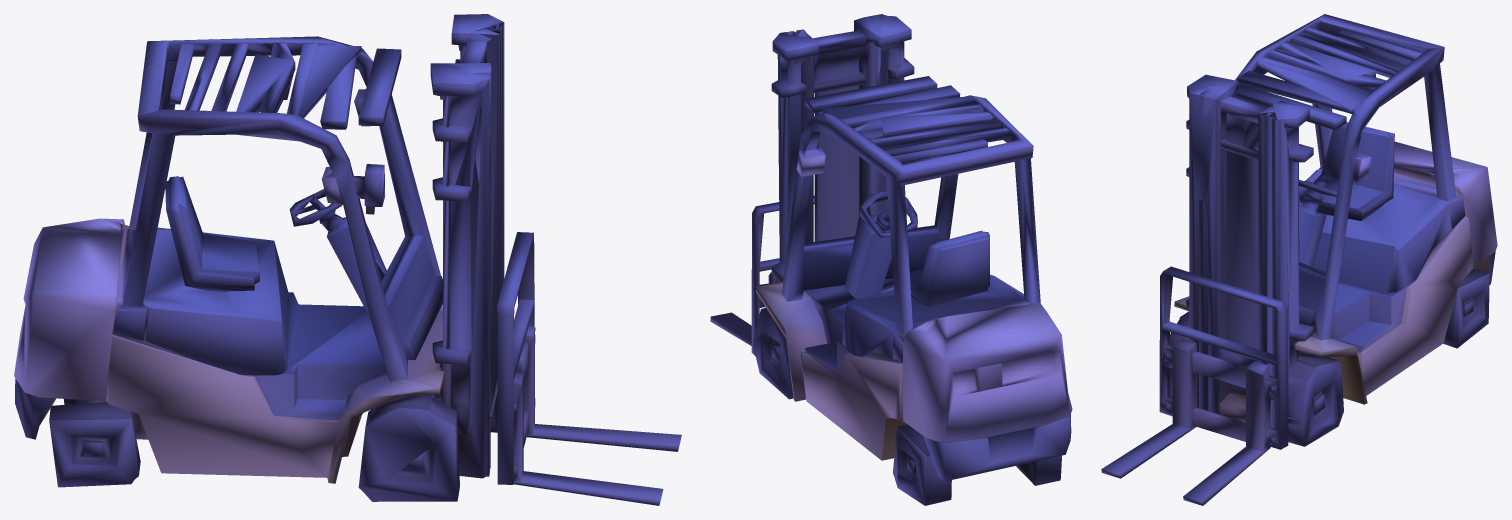
File: model.progressive.glb
The picture shows the model from 3 angles, left to right: view 1: azimuth 30°, elevation 25°; view 2: azimuth 150°, elevation 25°; view 3: azimuth 270°, elevation 25°; orthographic projection. The views are drawn at different scales.
Visible parts, largest first — view 1: mesh_input; view 2: mesh_input; view 3: mesh_input.
Boxes of the visible parts, x1=… form: mesh_input: x1=14, y1=14, x2=681, y2=505; mesh_input: x1=710, y1=14, x2=1072, y2=505; mesh_input: x1=1101, y1=14, x2=1497, y2=505.
Size of the model in its own units: 1.9 by 1.38 by 1.48.
1 material, 1 textured.
